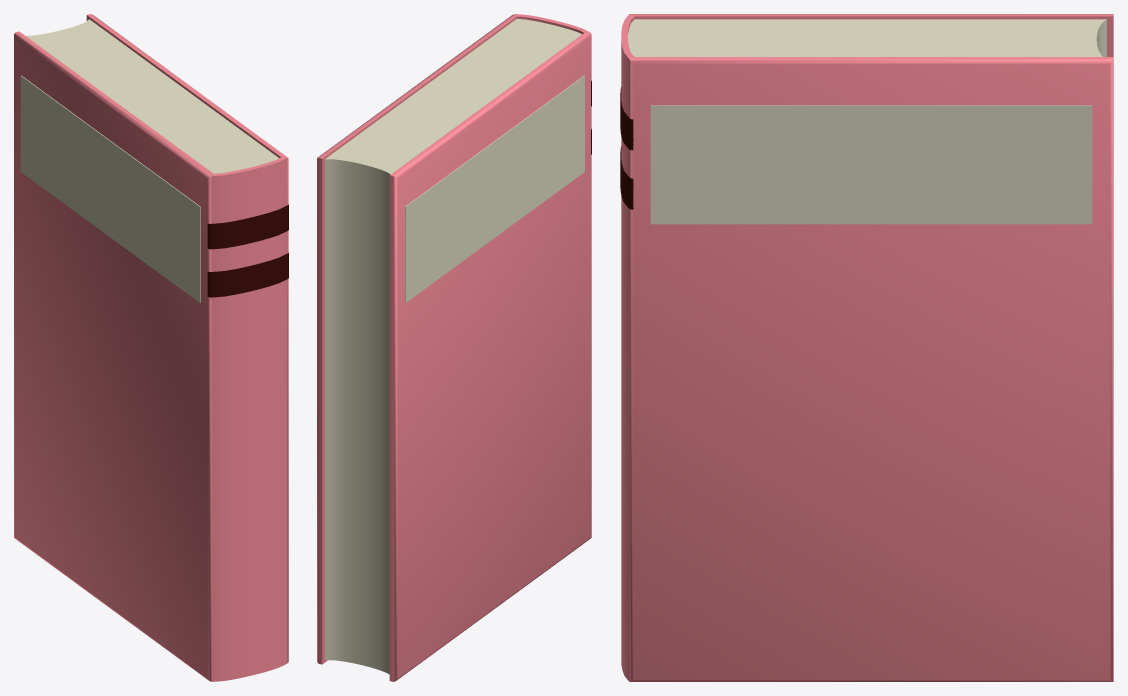
File: Book.fbx
The picture shows the model from 3 angles, left to right: view 1: azimuth 30°, elevation 25°; view 2: azimuth 150°, elevation 25°; view 3: azimuth 270°, elevation 25°; orthographic projection. The views are drawn at different scales.
Visible parts, largest first — view 1: Book; view 2: Book; view 3: Book.
Boxes of the visible parts, box(x1,y1,x2,y2) form: Book: box(14, 14, 288, 681); Book: box(317, 14, 591, 681); Book: box(620, 14, 1113, 681).
Bounding box in the file's own units: 0.0427 × 0.252 × 0.1809.
